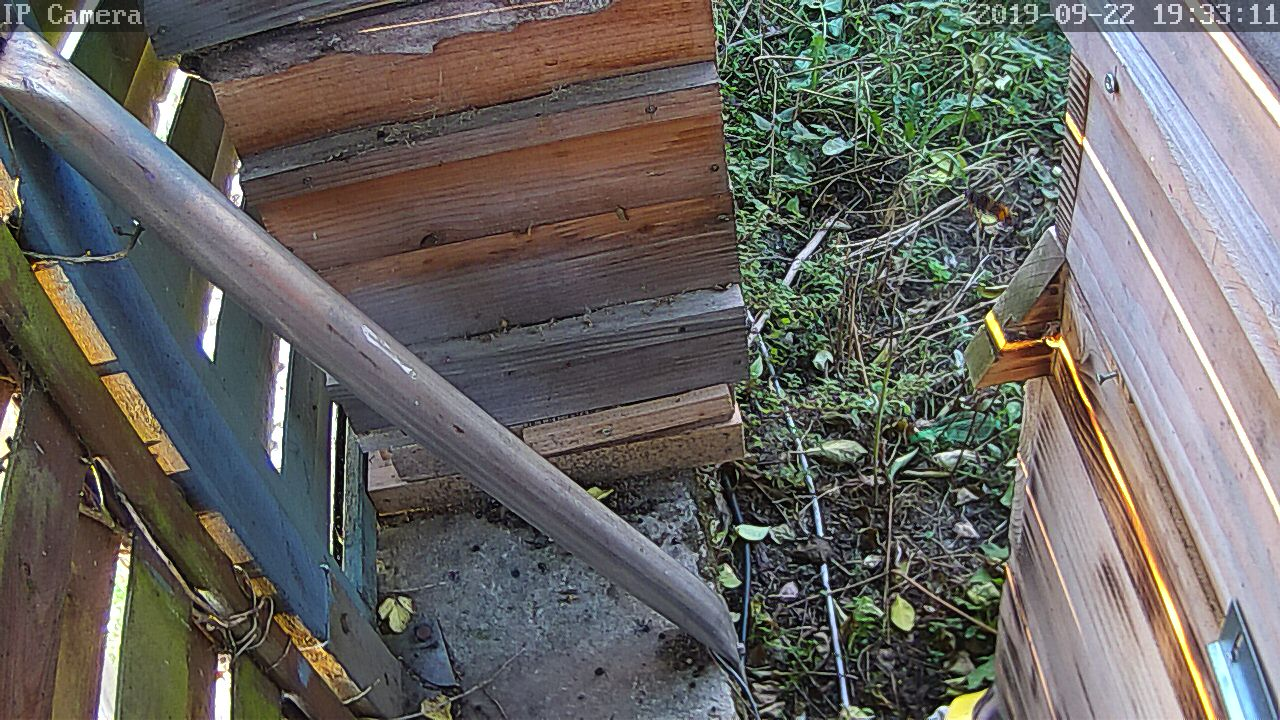hornet: (959, 183, 1018, 231)
